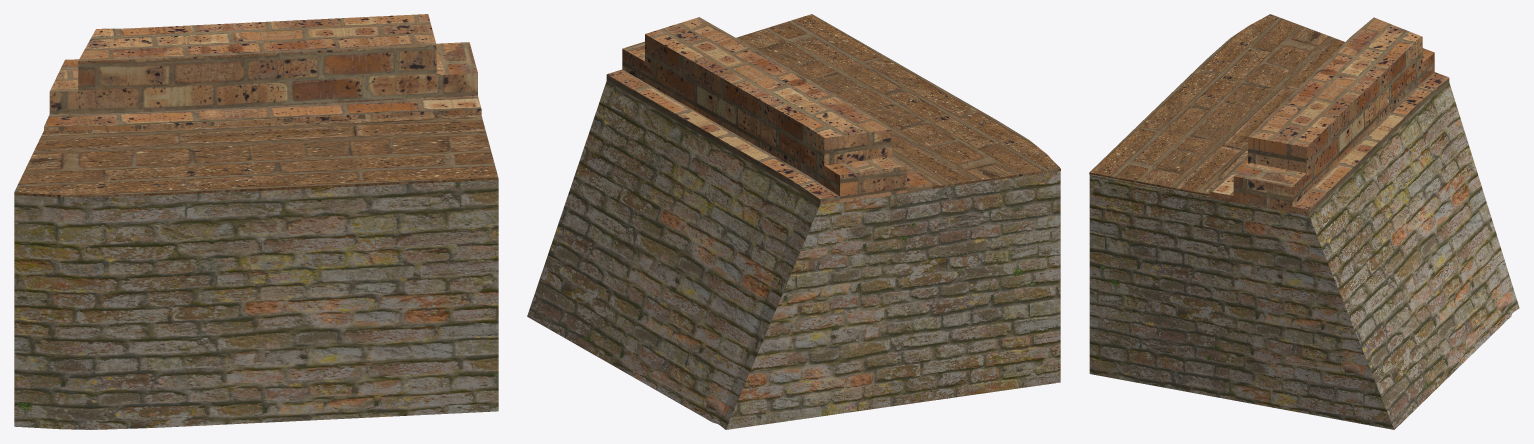
File: StoneRampartCurve2.fbx
3 renders of one model, left to right at view 1: azimuth 30°, elevation 25°; view 2: azimuth 150°, elevation 25°; view 3: azimuth 270°, elevation 25°, orthographic. The views are drawn at different scales.
Parts seen in each view (by area): view 1: RampartBody.002, Rampart.002, RampartFloor.002; view 2: RampartBody.002, Rampart.002, RampartFloor.002; view 3: RampartBody.002, Rampart.002, RampartFloor.002.
Boxes of the visible parts, box(x1,y1,x2,y2) form: RampartBody.002: box(14, 115, 498, 429); Rampart.002: box(44, 14, 481, 130); RampartFloor.002: box(14, 113, 497, 197); RampartBody.002: box(527, 81, 1060, 429); Rampart.002: box(606, 17, 932, 204); RampartFloor.002: box(736, 14, 1060, 188); RampartBody.002: box(1089, 83, 1519, 429); Rampart.002: box(1209, 17, 1449, 215); RampartFloor.002: box(1089, 14, 1344, 196).
Size of the model in its own units: 462 by 251 by 391.
